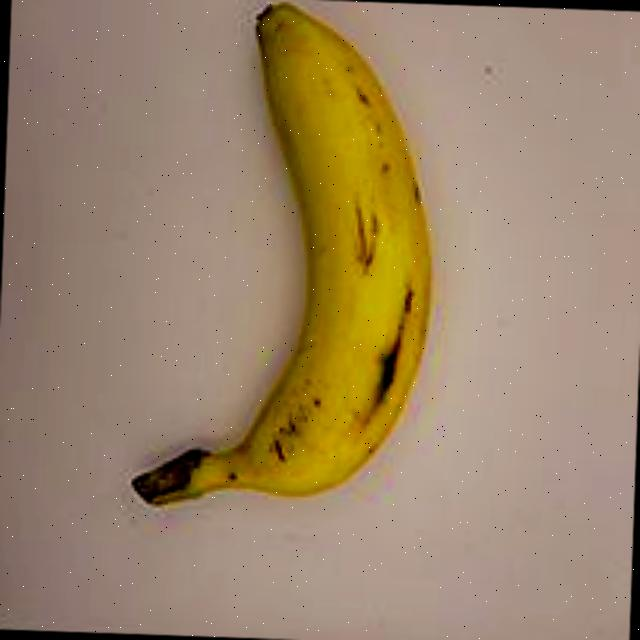Overripe: (114, 0, 464, 535)
